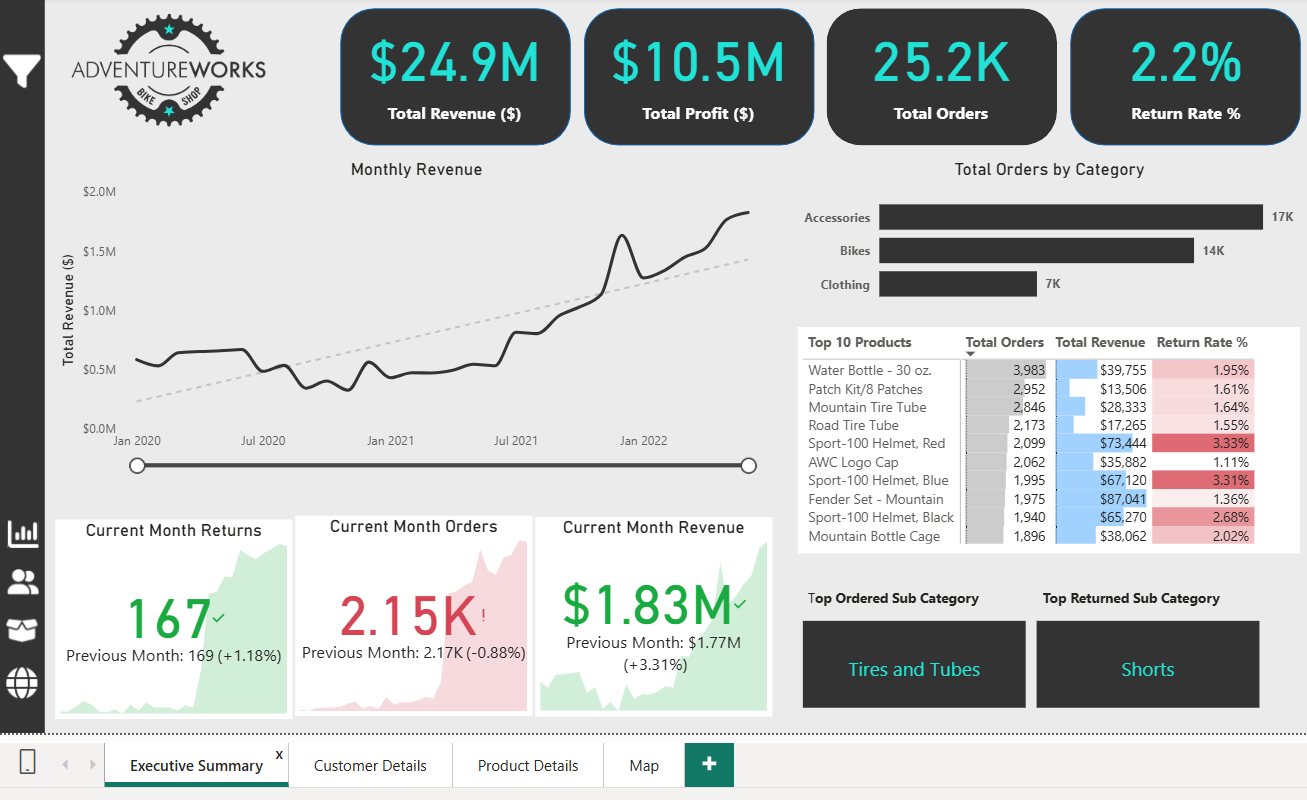

Layout of this report page (visuals, bound fields, positions):
{"tool":"powerbi","page":{"name":"Executive Summary","canvas":[1280,720],"ordinal":0},"visuals":[{"type":"shape","title":"Navigation Bar","box":[0,0,45,720],"z":0},{"type":"group","id":"g1","title":"KPI Background","box":[333.8,11.2,939.9,133.7],"z":0,"group":"g3"},{"type":"shape","box":[333.8,11.2,225.5,134.2],"z":0,"group":"g1"},{"type":"cardVisual","title":"Total Revenue","fields":{"Data":["_Measures.Total Revenue"]},"box":[333.8,11.2,225,133.7],"z":0,"group":"g2"},{"type":"actionButton","box":[1.2,506.3,44.8,38.6],"z":0,"group":"g4"},{"type":"image","title":"Company Logo","box":[45.6,0,242.2,143.3],"z":1000},{"type":"group","id":"g2","title":"KPI Values","box":[333.8,11.2,939.9,133.7],"z":1000,"group":"g3"},{"type":"shape","box":[571.9,11.2,225.5,134.2],"z":1000,"group":"g1"},{"type":"cardVisual","title":"Total Profit","fields":{"Data":["_Measures.Total Profit"]},"box":[572.5,11.2,225,133.7],"z":1000,"group":"g2"},{"type":"actionButton","box":[1.2,552.3,44.8,38.6],"z":1000,"group":"g4"},{"type":"group","id":"g3","title":"KPIS","box":[333.8,11.2,940,133.8],"z":2000},{"type":"cardVisual","title":"Total Orders","fields":{"Data":["_Measures.Total Orders"]},"box":[810,11.2,225,133.7],"z":2000,"group":"g2"},{"type":"shape","box":[810.1,11.2,225.5,134.2],"z":2000,"group":"g1"},{"type":"actionButton","box":[0,600.8,44.8,38.6],"z":2000,"group":"g4"},{"type":"shape","box":[1048.2,11.2,225.5,134.2],"z":3000,"group":"g1"},{"type":"cardVisual","title":"Return Rate","fields":{"Data":["_Measures.Returns %"]},"box":[1048.7,11.2,225,133.7],"z":3000,"group":"g2"},{"type":"lineChart","title":"Monthly Revenue","fields":{"Category":["DimCalender.StartOfMonth"],"Y":["_Measures.Total Revenue"]},"box":[55,157.4,707,311],"z":3000},{"type":"actionButton","box":[0,651.8,44.8,38.6],"z":3000,"group":"g4"},{"type":"clusteredBarChart","title":"Total Orders by Category","fields":{"Category":["DimProductCategories.CategoryName"],"Y":["_Measures.Total Orders"]},"box":[781.3,157.9,492.5,155],"z":4000},{"type":"kpi","title":"Current Month Returns","fields":{"TrendLine":["DimCalender.StartOfMonth"],"Indicator":["_Measures.Quantity Returned"],"Goal":["_Measures.Previous Month Returns"]},"box":[55,511.3,232,195],"z":5000},{"type":"kpi","title":"Current Month Orders","fields":{"TrendLine":["DimCalender.StartOfMonth"],"Goal":["_Measures.Previous Month Orders"],"Indicator":["_Measures.Total Orders"]},"box":[289.9,507.7,232,196.3],"z":6000},{"type":"kpi","title":"Current Month Revenue","fields":{"TrendLine":["DimCalender.StartOfMonth"],"Indicator":["_Measures.Total Revenue"],"Goal":["_Measures.Previous Month Revenue"]},"box":[524.8,509.2,232,194.8],"z":7000},{"type":"pivotTable","fields":{"Rows":["DimProduct.ProductName"],"Values":["_Measures.Total Orders","_Measures.Total Revenue","_Measures.Return Rate %"]},"box":[781.2,323.4,491.4,221.4],"z":8000},{"type":"cardVisual","fields":{"Data":["Min(DimProductSubcategories.SubcategoryName)"]},"box":[781.2,605.8,228.9,95.8],"z":9000},{"type":"cardVisual","fields":{"Data":["Min(DimProductSubcategories.SubcategoryName)"]},"box":[1010.1,605.8,228.9,95.8],"z":10000},{"type":"textbox","box":[786.2,573.5,218.9,34.8],"z":11000},{"type":"textbox","box":[1016.3,573.5,215.2,34.8],"z":12000},{"type":"group","id":"g4","title":"Group 1","box":[0,506.3,46,184.1],"z":13000},{"type":"actionButton","box":[0,50,45,45],"z":15000}]}

Visuals, with their boxes on the page's 1280x720 design canvas (x1, y1, x2, y2). These are canvas units, not pixel positions in the 1307x800 screenshot, which may show the page scaled, cropped or inside an application window:
"Navigation Bar" shape: box=[0, 0, 45, 720]
"KPI Background" group: box=[334, 11, 1274, 145]
shape: box=[334, 11, 559, 145]
"Total Revenue" cardVisual: box=[334, 11, 559, 145]
actionButton: box=[1, 506, 46, 545]
"Company Logo" image: box=[46, 0, 288, 143]
"KPI Values" group: box=[334, 11, 1274, 145]
shape: box=[572, 11, 797, 145]
"Total Profit" cardVisual: box=[572, 11, 798, 145]
actionButton: box=[1, 552, 46, 591]
"KPIS" group: box=[334, 11, 1274, 145]
"Total Orders" cardVisual: box=[810, 11, 1035, 145]
shape: box=[810, 11, 1036, 145]
actionButton: box=[0, 601, 45, 639]
shape: box=[1048, 11, 1274, 145]
"Return Rate" cardVisual: box=[1049, 11, 1274, 145]
"Monthly Revenue" lineChart: box=[55, 157, 762, 468]
actionButton: box=[0, 652, 45, 690]
"Total Orders by Category" clusteredBarChart: box=[781, 158, 1274, 313]
"Current Month Returns" kpi: box=[55, 511, 287, 706]
"Current Month Orders" kpi: box=[290, 508, 522, 704]
"Current Month Revenue" kpi: box=[525, 509, 757, 704]
pivotTable - DimProduct.ProductName x _Measures.Total Orders: box=[781, 323, 1273, 545]
cardVisual - Min(DimProductSubcategories.SubcategoryName): box=[781, 606, 1010, 702]
cardVisual - Min(DimProductSubcategories.SubcategoryName): box=[1010, 606, 1239, 702]
textbox: box=[786, 574, 1005, 608]
textbox: box=[1016, 574, 1232, 608]
"Group 1" group: box=[0, 506, 46, 690]
actionButton: box=[0, 50, 45, 95]
